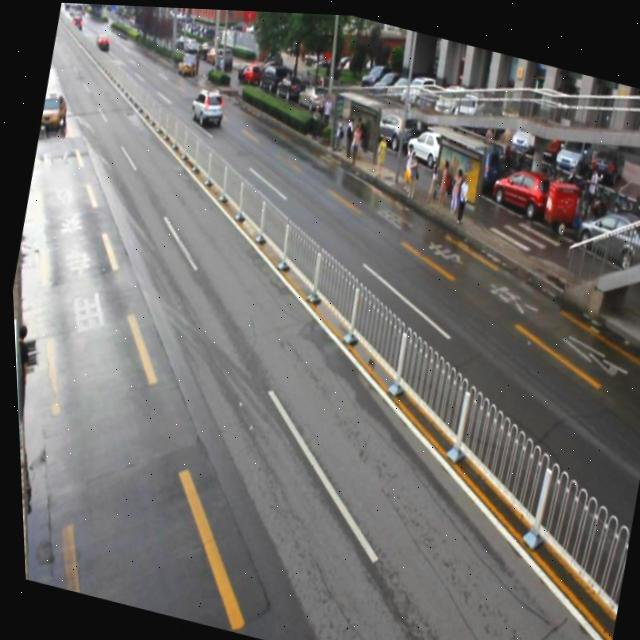car: (186, 84, 226, 130)
